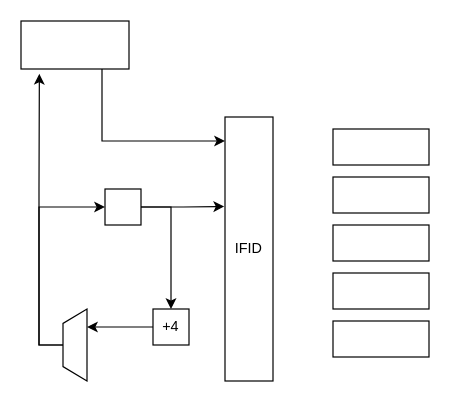
The diagram is 450 pixels wide and 402 high, and some of its shapes have lost their labels. Here are the shapes that lost their labels. From the top down, the box of each, then its label:
(20, 20, 129, 69): ROM
(104, 188, 141, 225): PC
